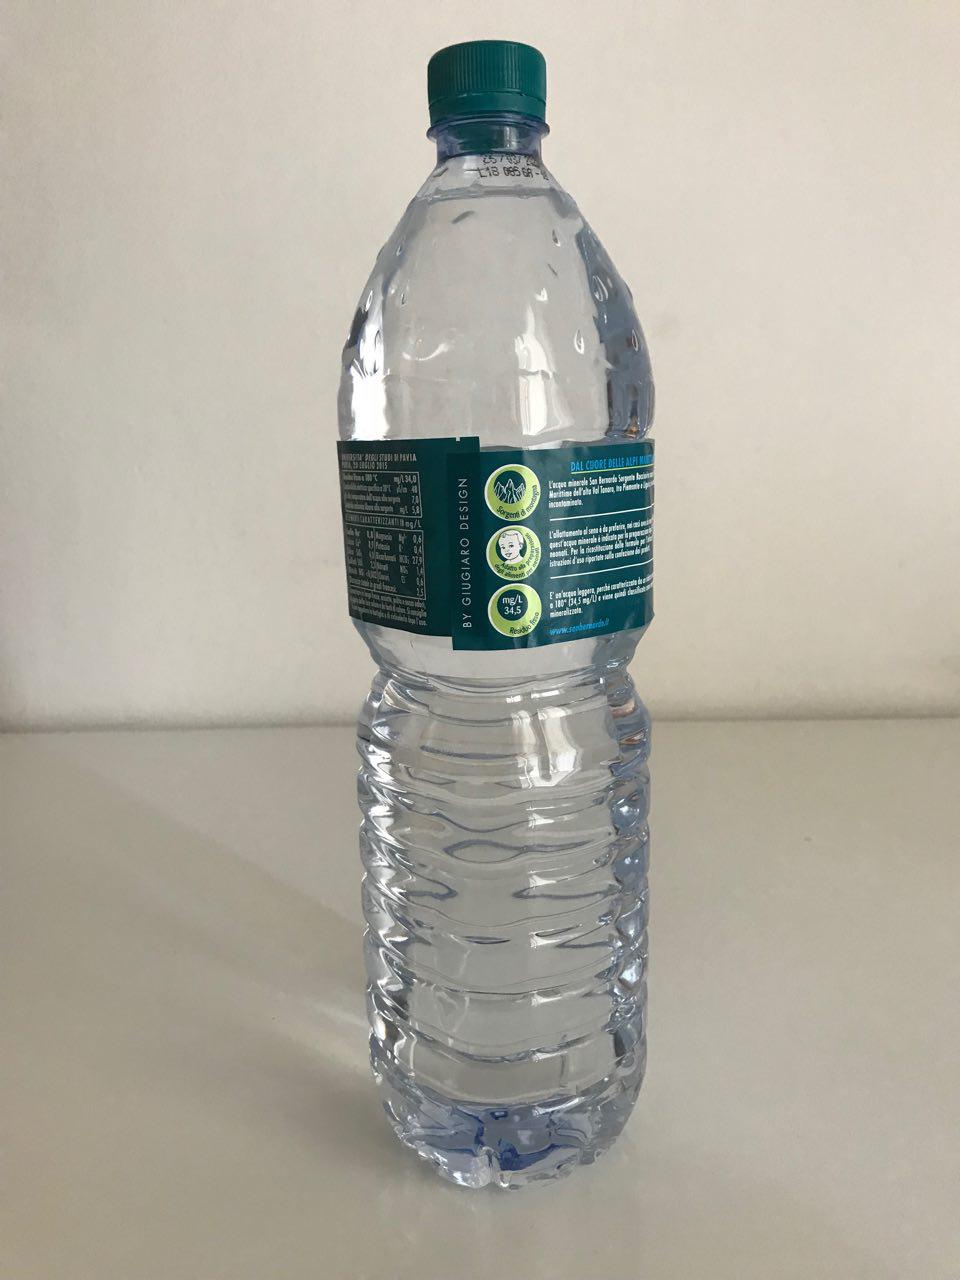san_bernardo: (335, 36, 658, 1195)
